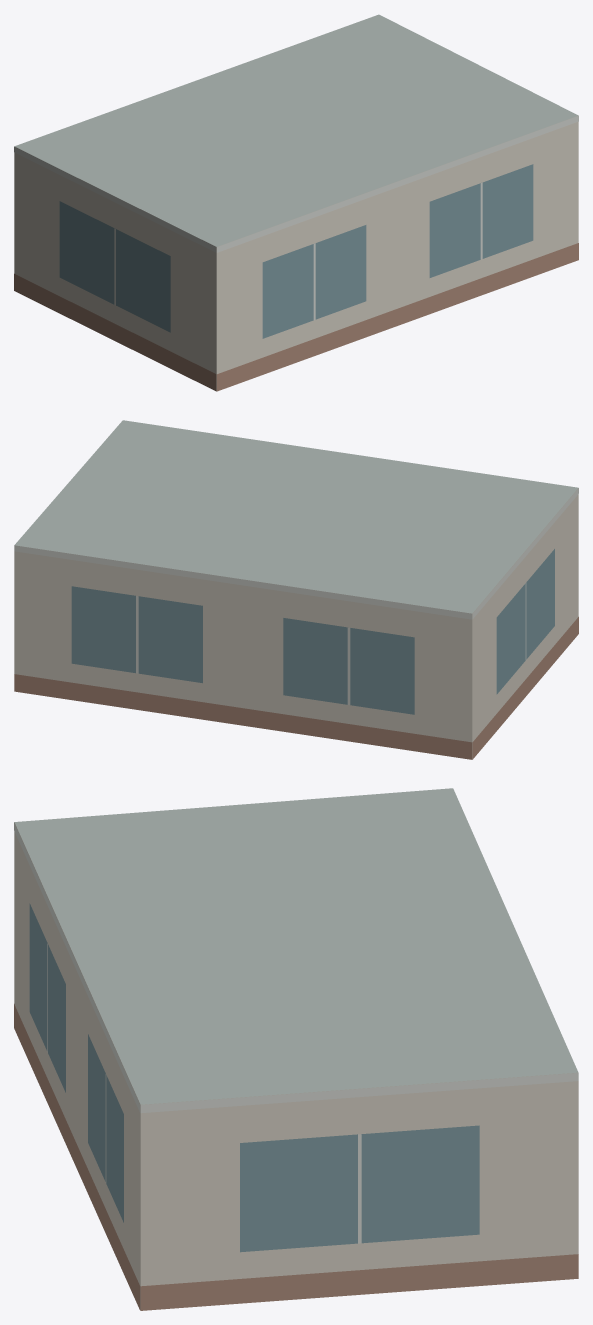
Rendered from survey-upis-33007308.glb.
The picture shows the model from 3 angles, top to bottom: view 1: azimuth 30°, elevation 25°; view 2: azimuth 150°, elevation 25°; view 3: azimuth 270°, elevation 25°; orthographic projection. The views are drawn at different scales.
Parts seen in each view (by area): view 1: survey-upis-33007308.tmp; view 2: survey-upis-33007308.tmp; view 3: survey-upis-33007308.tmp.
Part boxes in pixels (x1,y1,x2,y2): survey-upis-33007308.tmp: (14, 14, 578, 391); survey-upis-33007308.tmp: (14, 420, 578, 759); survey-upis-33007308.tmp: (14, 788, 578, 1310).
Size of the model in its own units: 10.07 by 3.05 by 7.58.
